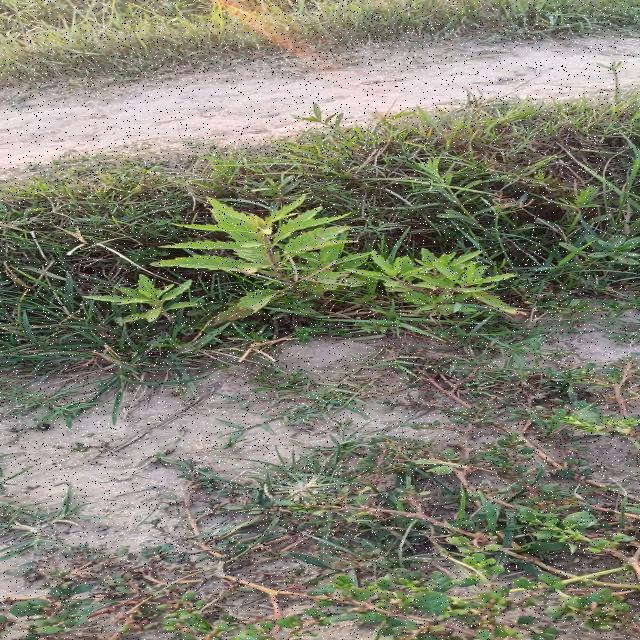plant: (152, 198, 522, 326), (87, 275, 197, 322), (561, 235, 640, 265)
